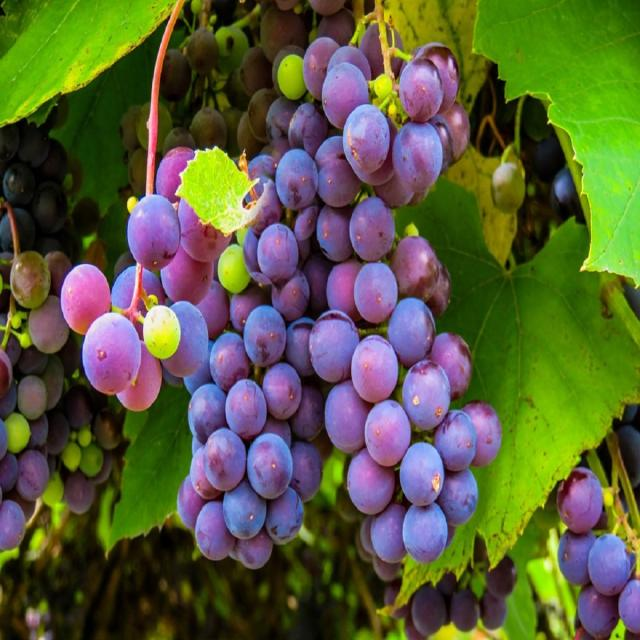Grapes: (311, 0, 512, 583), (180, 94, 332, 580), (0, 128, 155, 569), (63, 107, 252, 430)
